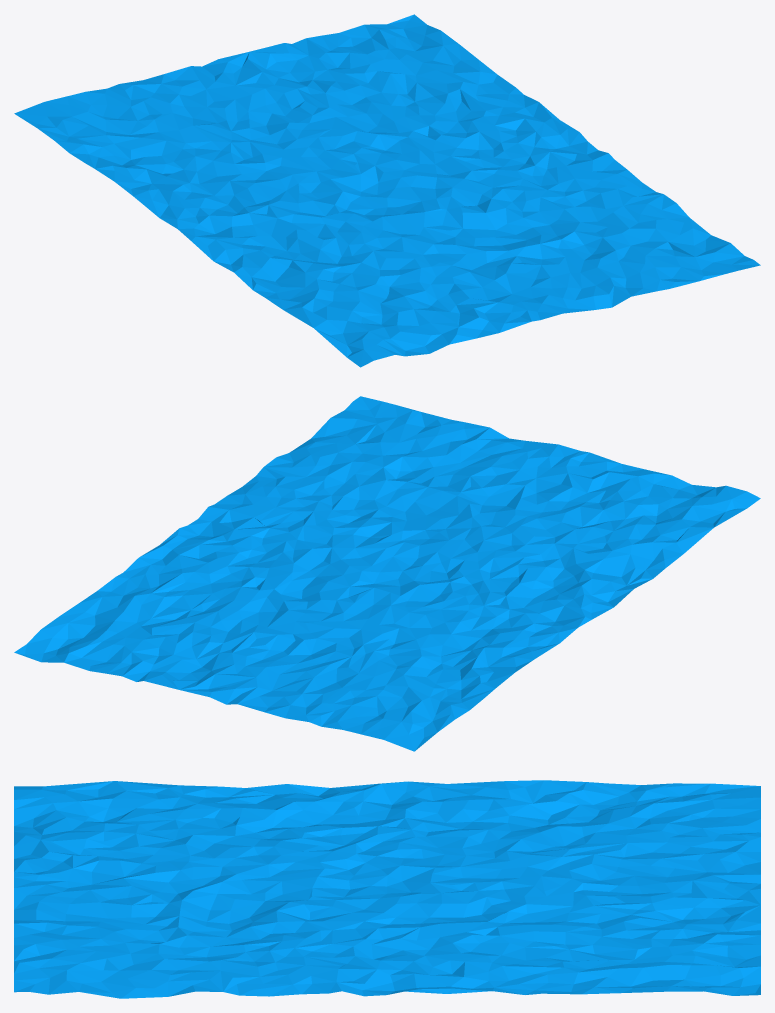
File: LP_Water.fbx
3 renders of one model, top to bottom at view 1: azimuth 30°, elevation 25°; view 2: azimuth 150°, elevation 25°; view 3: azimuth 270°, elevation 25°, orthographic. The views are drawn at different scales.
Parts seen in each view (by area): view 1: Plane; view 2: Plane; view 3: Plane.
Part boxes in pixels (x1,y1,x2,y2): Plane: [14, 14, 760, 367]; Plane: [14, 396, 760, 751]; Plane: [14, 780, 760, 998].
Bounding box in the file's own units: 5031 × 110 × 7540.
